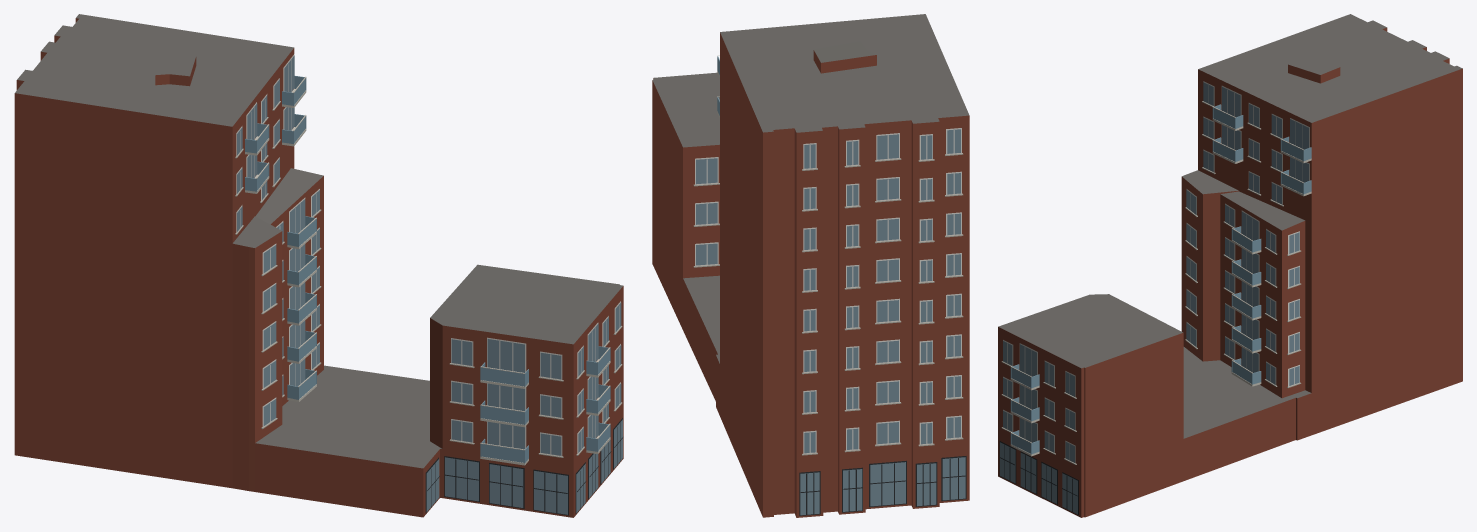
The model's file is haparandaweg-788-868.glb.
3 renders of one model, left to right at view 1: azimuth 30°, elevation 25°; view 2: azimuth 150°, elevation 25°; view 3: azimuth 270°, elevation 25°, orthographic. The views are drawn at different scales.
Parts seen in each view (by area): view 1: haparandaweg-788-868; view 2: haparandaweg-788-868; view 3: haparandaweg-788-868.
Part boxes in pixels (box(x1,y1,x2,y2)): haparandaweg-788-868: box(14, 14, 623, 517); haparandaweg-788-868: box(652, 14, 969, 517); haparandaweg-788-868: box(998, 14, 1462, 517).
Size of the model in its own units: 37.21 by 29.19 by 38.25.
